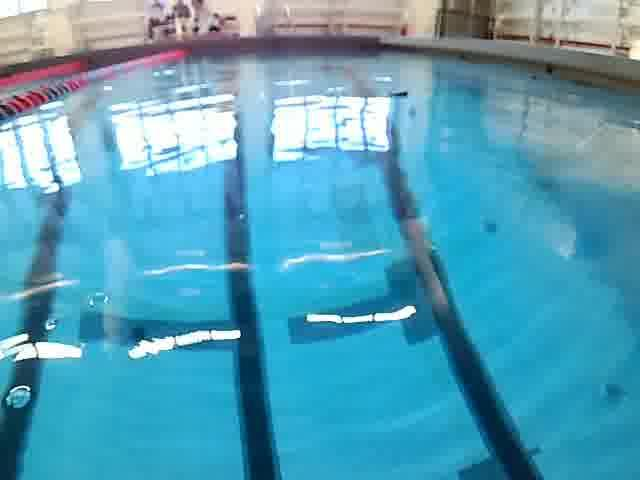CamMount: (387, 86, 414, 105)
